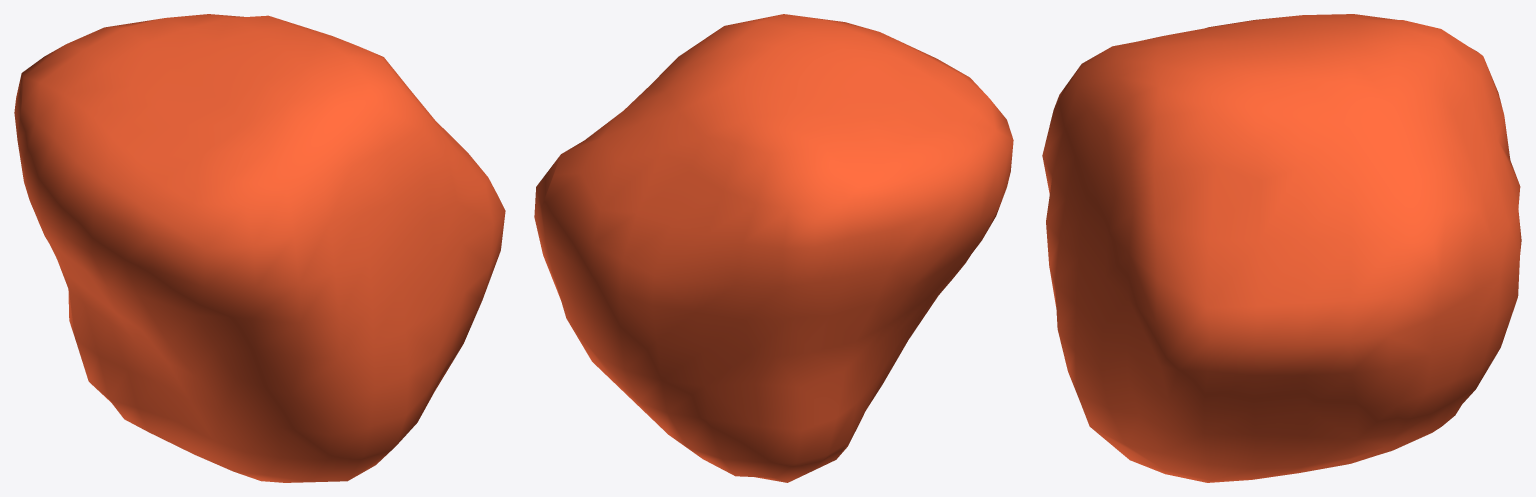
3 renders of one model, left to right at view 1: azimuth 30°, elevation 25°; view 2: azimuth 150°, elevation 25°; view 3: azimuth 270°, elevation 25°, orthographic. The views are drawn at different scales.
Visible parts, largest first — view 1: Roca11; view 2: Roca11; view 3: Roca11.
Part boxes in pixels (box(x1,y1,x2,y2)): Roca11: box(14, 14, 505, 482); Roca11: box(534, 14, 1013, 482); Roca11: box(1042, 14, 1521, 482).
Size of the model in its own units: 89.97 by 83.5 by 86.05.
